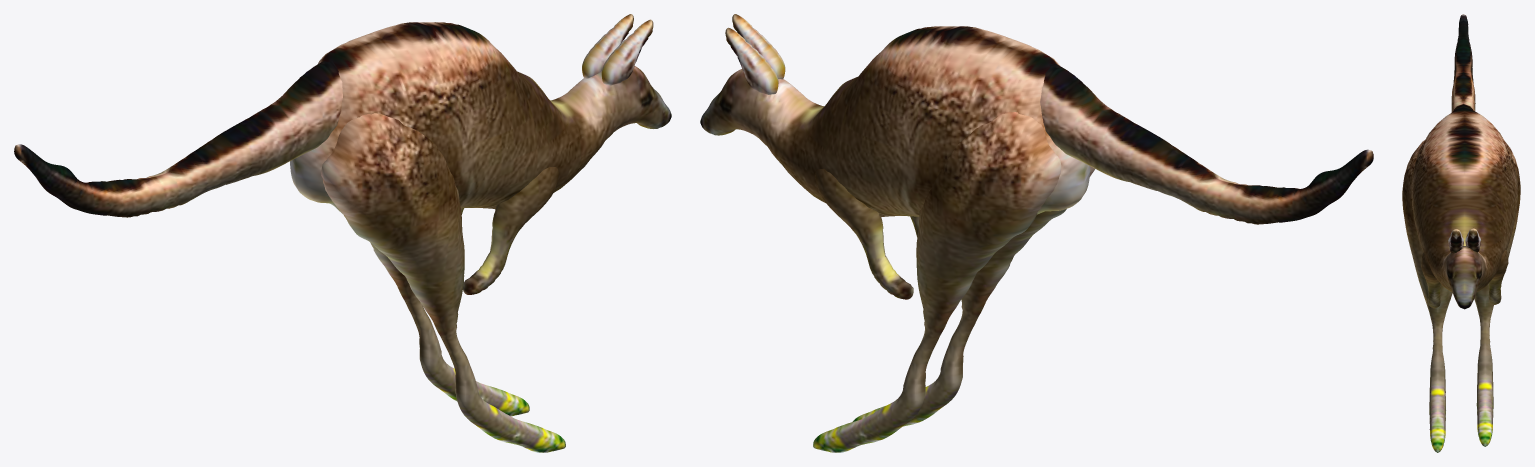
Rendered from kangroo.glb.
3 renders of one model, left to right at view 1: azimuth 30°, elevation 25°; view 2: azimuth 150°, elevation 25°; view 3: azimuth 270°, elevation 25°, orthographic. The views are drawn at different scales.
Parts seen in each view (by area): view 1: Mesh_0; view 2: Mesh_0; view 3: Mesh_0.
Boxes of the visible parts, x1=… form: Mesh_0: x1=14, y1=14, x2=671, y2=452; Mesh_0: x1=700, y1=14, x2=1373, y2=452; Mesh_0: x1=1402, y1=14, x2=1520, y2=452.
Size of the model in its own units: 6.25 by 3.97 by 1.49.
1 material, 1 textured.
